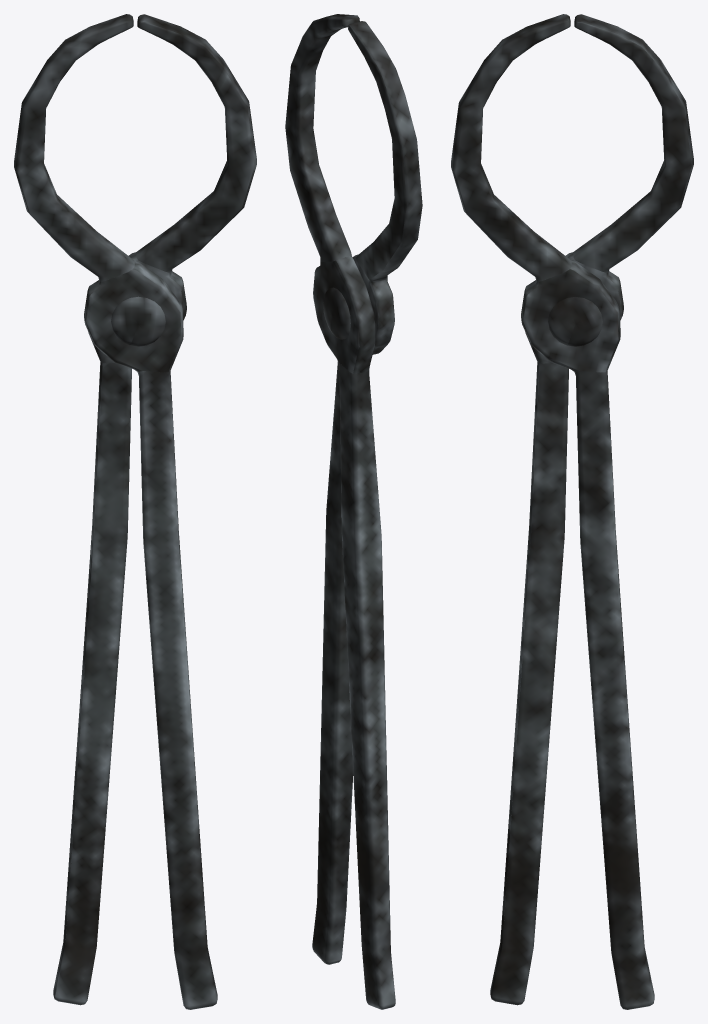
The model's file is tongs.glb.
3 renders of one model, left to right at view 1: azimuth 90°, elevation 25°; view 2: azimuth 210°, elevation 25°; view 3: azimuth 270°, elevation 25°, orthographic. The views are drawn at different scales.
Parts seen in each view (by area): view 1: SM_Tool01_Twangs_Big3_204_M_Tools01_0; view 2: SM_Tool01_Twangs_Big3_204_M_Tools01_0; view 3: SM_Tool01_Twangs_Big3_204_M_Tools01_0.
Boxes of the visible parts, box(x1,y1,x2,y2) form: SM_Tool01_Twangs_Big3_204_M_Tools01_0: box(14, 14, 256, 1009); SM_Tool01_Twangs_Big3_204_M_Tools01_0: box(285, 14, 422, 1009); SM_Tool01_Twangs_Big3_204_M_Tools01_0: box(451, 14, 693, 1009).
Size of the model in its own units: 5 by 98.48 by 21.96.
Materials: 1 (1 with a texture image).
